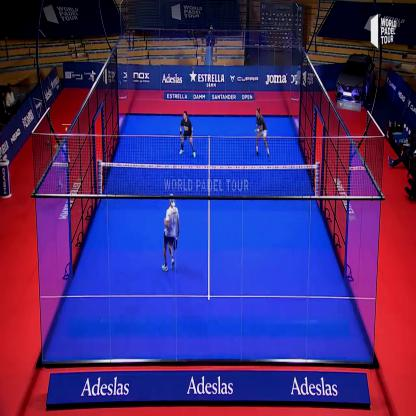ball: (62, 124, 72, 135)
